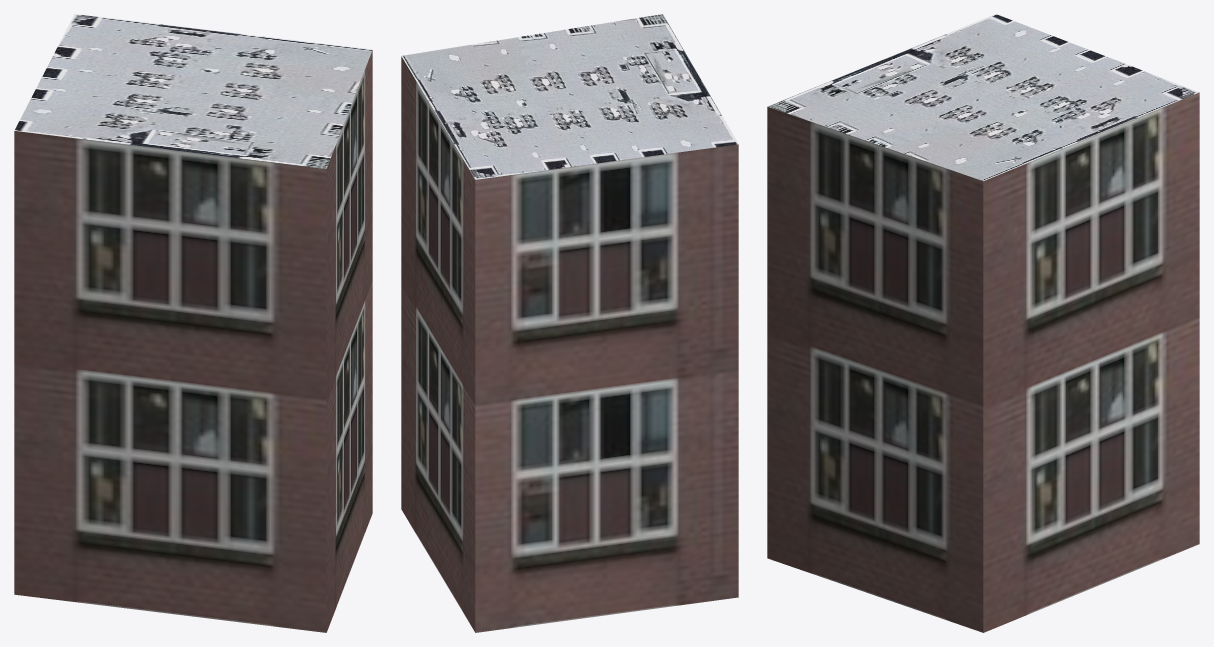
The model's file is ResTex__4733.fbx.
3 views of the same model, side by side, from view 1: azimuth 30°, elevation 25°; view 2: azimuth 150°, elevation 25°; view 3: azimuth 270°, elevation 25° (orthographic). The views are drawn at different scales.
Parts seen in each view (by area): view 1: CityEngineMaterial_12_m, CityEngineMaterial_4_m; view 2: CityEngineMaterial_12_m, CityEngineMaterial_4_m; view 3: CityEngineMaterial_12_m, CityEngineMaterial_4_m.
Part boxes in pixels (bbox=[...]): CityEngineMaterial_12_m: bbox=[14, 50, 372, 632]; CityEngineMaterial_4_m: bbox=[14, 14, 372, 168]; CityEngineMaterial_12_m: bbox=[401, 56, 738, 632]; CityEngineMaterial_4_m: bbox=[401, 14, 738, 179]; CityEngineMaterial_12_m: bbox=[767, 92, 1199, 632]; CityEngineMaterial_4_m: bbox=[767, 14, 1198, 181].
Size of the model in its own units: 4.76 by 6 by 5.2.
Materials: 2 (2 with a texture image).
